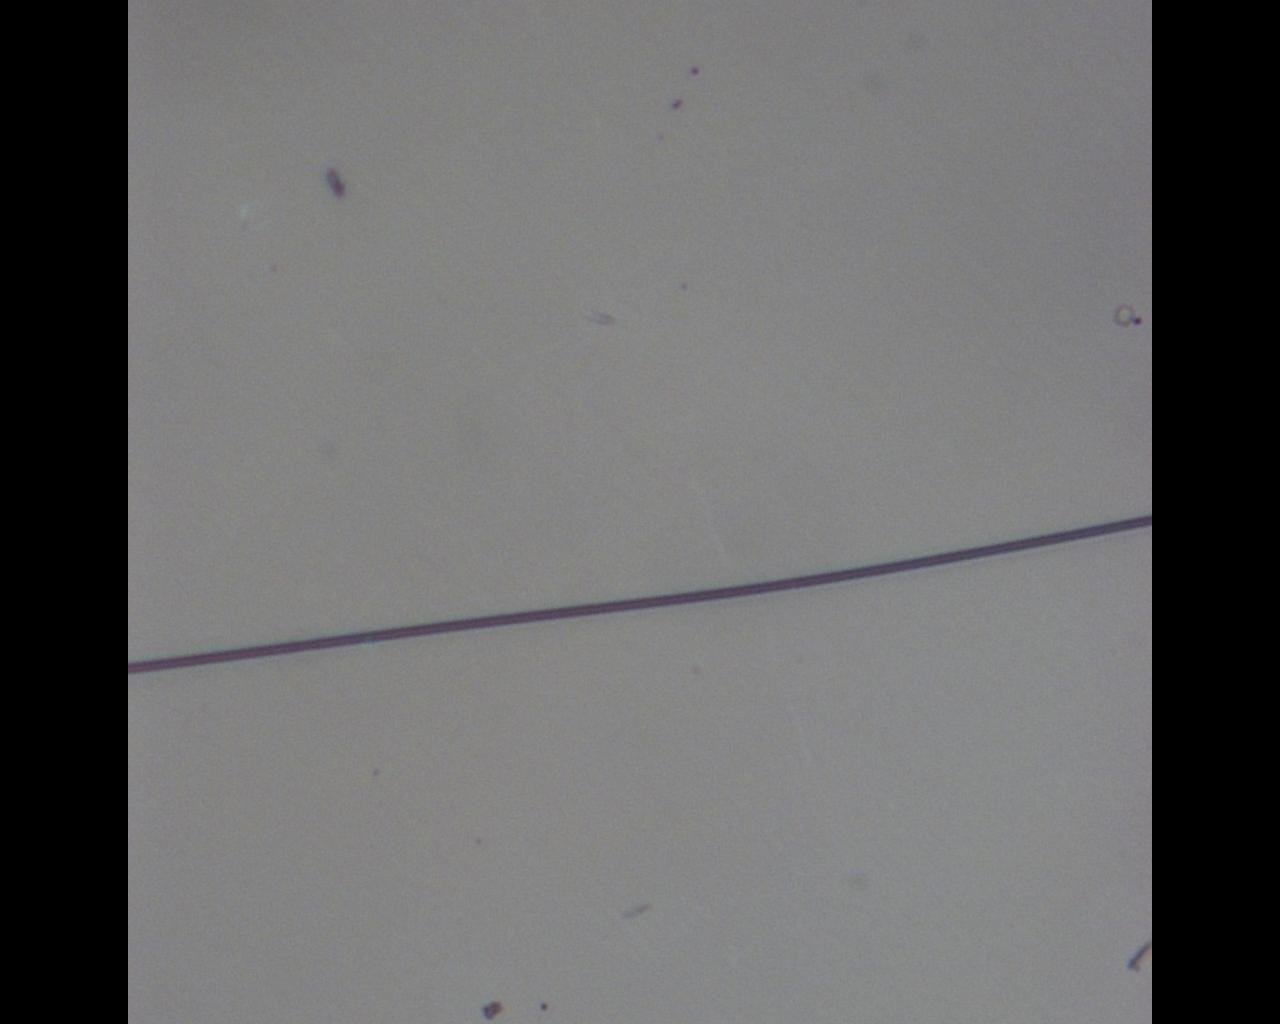fiber: (127, 513, 1151, 676)
